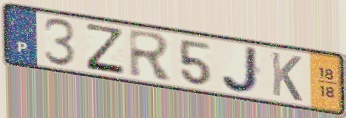3: (42, 17, 77, 68)
5: (177, 38, 215, 87)
J: (219, 45, 263, 96)
K: (269, 49, 304, 104)
R: (126, 27, 175, 83)
Z: (84, 22, 127, 77)
